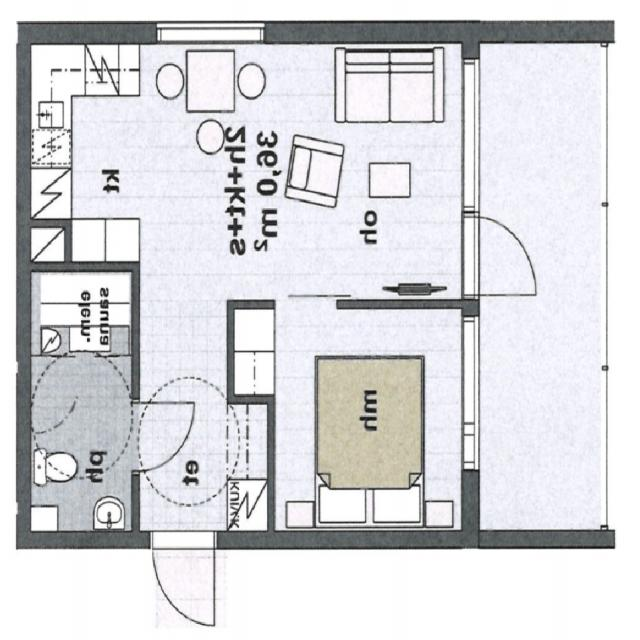door: (464, 217, 542, 295), (152, 530, 214, 625), (133, 400, 195, 469), (62, 354, 101, 412)
